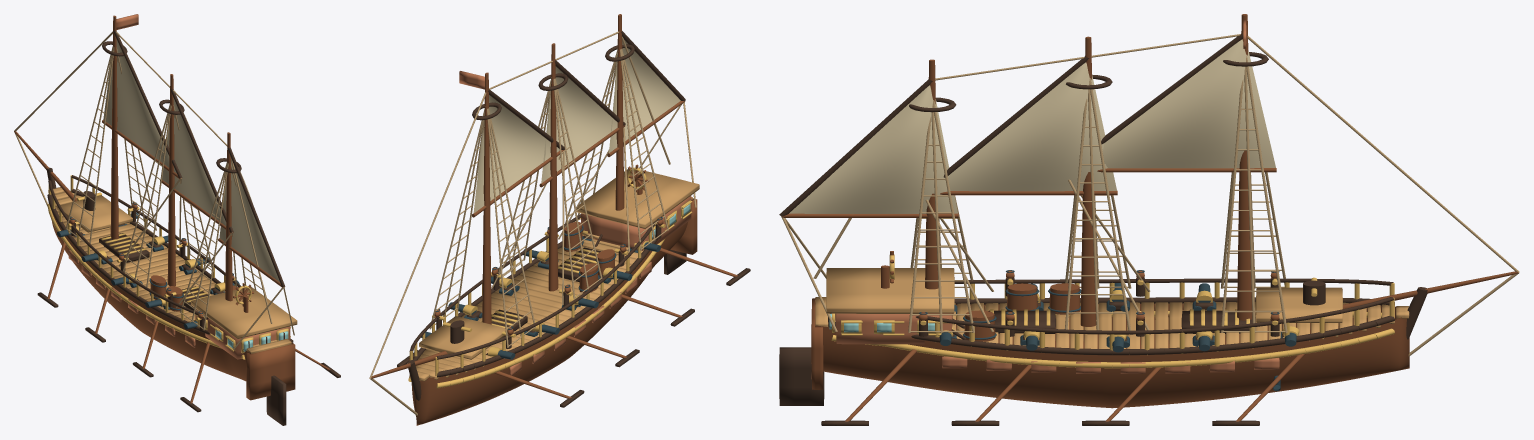
The model's file is xebec.glb.
3 renders of one model, left to right at view 1: azimuth 30°, elevation 25°; view 2: azimuth 150°, elevation 25°; view 3: azimuth 270°, elevation 25°, orthographic. The views are drawn at different scales.
Parts seen in each view (by area): view 1: _MeshInstance3D_69, _MeshInstance3D_70, _MeshInstance3D_75, _MeshInstance3D_74, _MeshInstance3D_72, _MeshInstance3D_50, _MeshInstance3D_51, _MeshInstance3D_52, _MeshInstance3D_71, _MeshInstance3D_76, _MeshInstance3D_73; view 2: _MeshInstance3D_69, _MeshInstance3D_75, _MeshInstance3D_70, _MeshInstance3D_74, _MeshInstance3D_72, _MeshInstance3D_50, _MeshInstance3D_51, _MeshInstance3D_52, _MeshInstance3D_71, _MeshInstance3D_76; view 3: _MeshInstance3D_69, _MeshInstance3D_74, _MeshInstance3D_75, _MeshInstance3D_70, _MeshInstance3D_50, _MeshInstance3D_51, _MeshInstance3D_52, _MeshInstance3D_72, _MeshInstance3D_71, _MeshInstance3D_76.
Part boxes in pixels (box(x1,y1,x2,y2)): _MeshInstance3D_69: box(14, 15, 295, 400); _MeshInstance3D_70: box(48, 187, 297, 353); _MeshInstance3D_75: box(14, 31, 294, 349); _MeshInstance3D_74: box(46, 31, 286, 425); _MeshInstance3D_72: box(47, 175, 290, 359); _MeshInstance3D_50: box(103, 39, 176, 173); _MeshInstance3D_51: box(162, 98, 226, 225); _MeshInstance3D_52: box(219, 160, 279, 281); _MeshInstance3D_71: box(68, 14, 290, 359); _MeshInstance3D_76: box(57, 202, 239, 329); _MeshInstance3D_73: box(205, 327, 288, 351); _MeshInstance3D_69: box(371, 14, 697, 425); _MeshInstance3D_75: box(369, 31, 696, 415); _MeshInstance3D_70: box(409, 167, 699, 381); _MeshInstance3D_74: box(407, 31, 686, 400); _MeshInstance3D_72: box(408, 167, 692, 388); _MeshInstance3D_50: box(473, 95, 559, 213); _MeshInstance3D_51: box(541, 66, 617, 183); _MeshInstance3D_52: box(609, 40, 680, 152); _MeshInstance3D_71: box(459, 71, 691, 375); _MeshInstance3D_76: box(421, 217, 662, 359); _MeshInstance3D_69: box(782, 14, 1518, 408); _MeshInstance3D_74: box(779, 33, 1427, 405); _MeshInstance3D_75: box(781, 34, 1519, 356); _MeshInstance3D_70: box(815, 268, 1409, 348); _MeshInstance3D_50: box(1103, 39, 1275, 168); _MeshInstance3D_51: box(948, 62, 1116, 191); _MeshInstance3D_52: box(789, 85, 957, 213); _MeshInstance3D_72: box(831, 254, 1394, 368); _MeshInstance3D_71: box(835, 20, 1279, 373); _MeshInstance3D_76: box(919, 270, 1296, 391).
Size of the model in its own units: 3.58 by 6.79 by 11.68.
